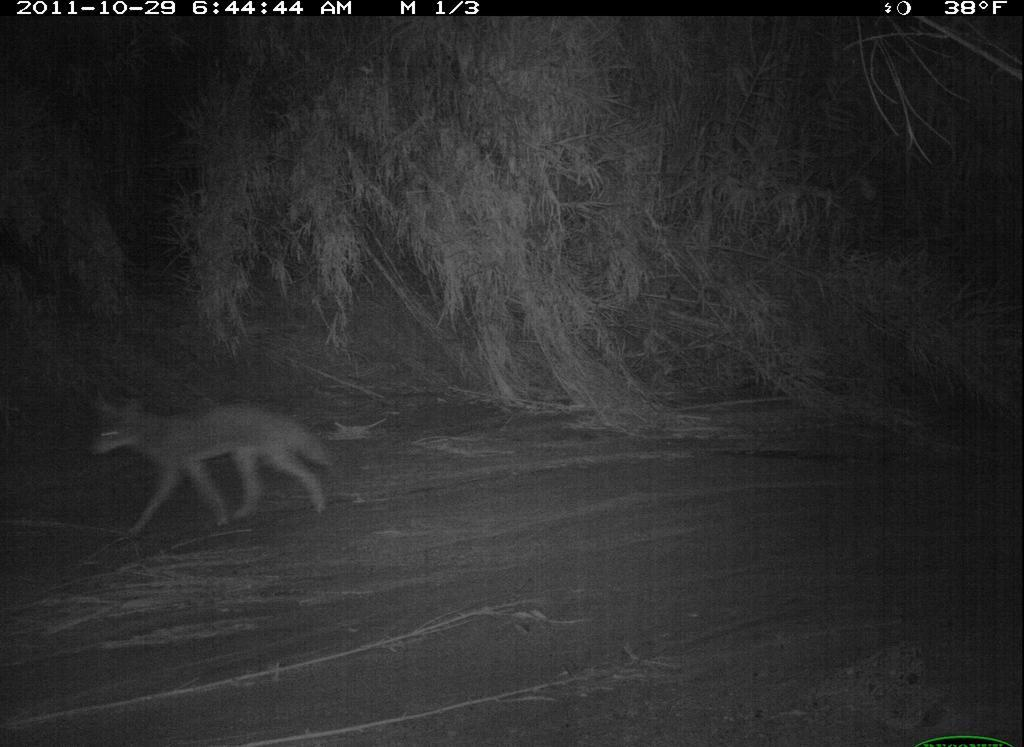coyote: (76, 385, 347, 545)
